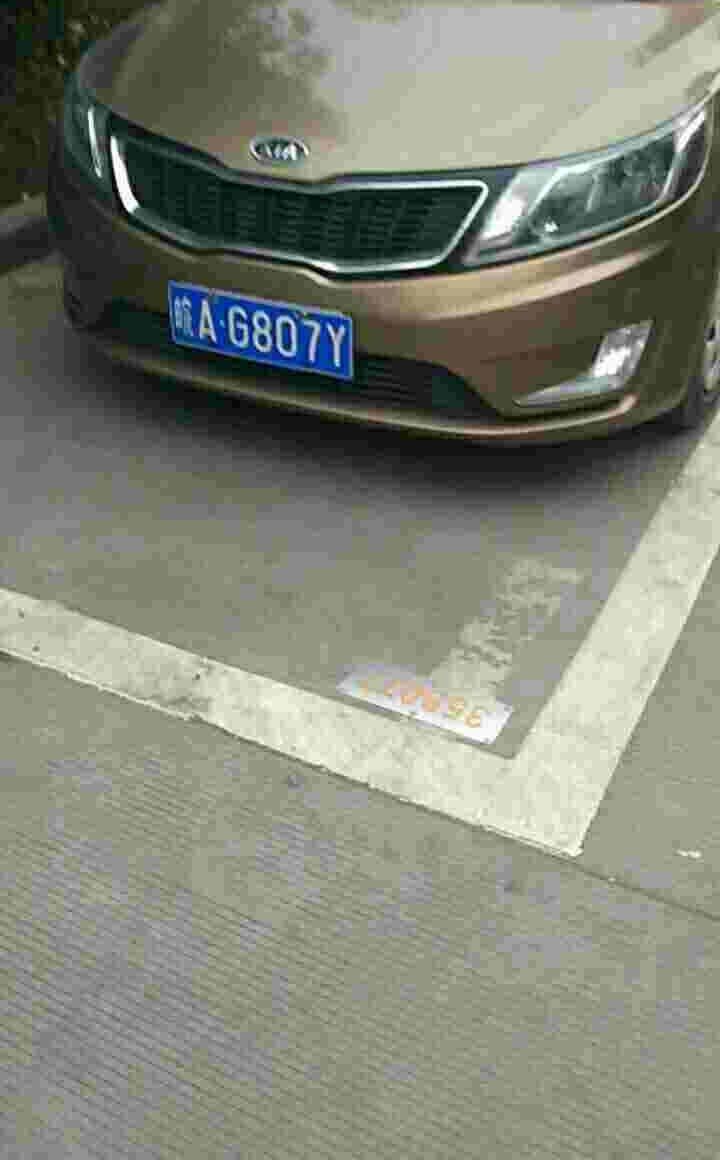license_plate: (170, 287, 360, 364)
